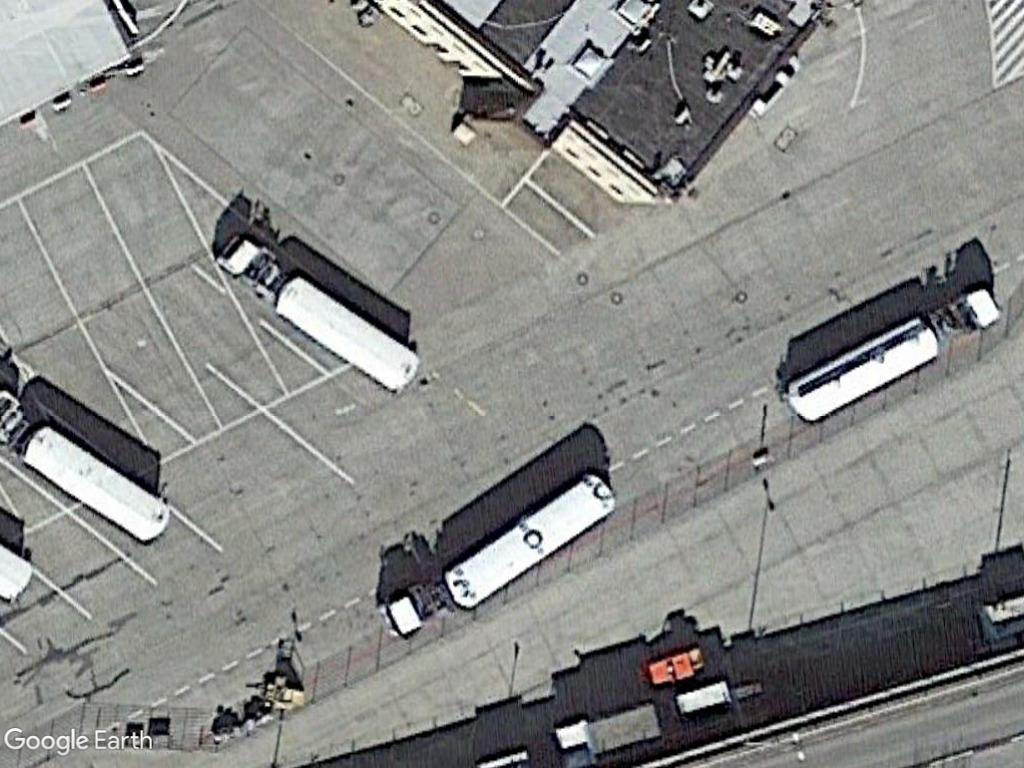longvehicle: (437, 462, 618, 617), (272, 271, 430, 402), (18, 423, 176, 550), (782, 310, 944, 430)
